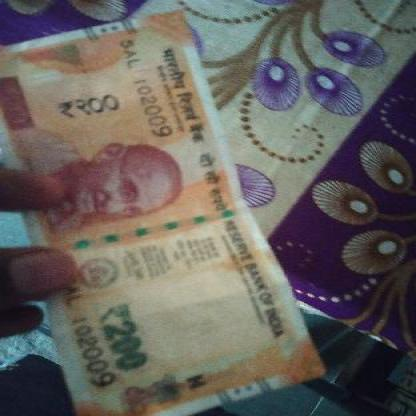New200Front: (0, 7, 328, 415)
